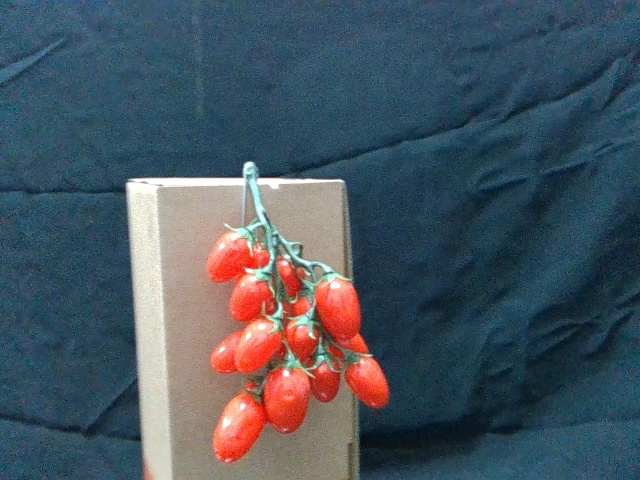tomato: (210, 387, 267, 462), (317, 271, 364, 341), (268, 364, 311, 434), (236, 315, 286, 373), (230, 268, 278, 321), (209, 226, 253, 283), (348, 352, 391, 409), (308, 348, 342, 405), (286, 311, 321, 362), (211, 329, 242, 378)
